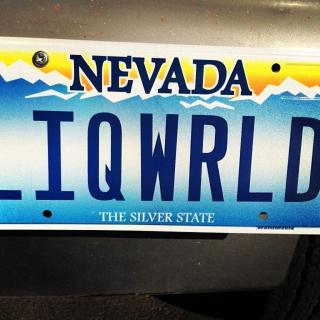license: (1, 59, 320, 239)
